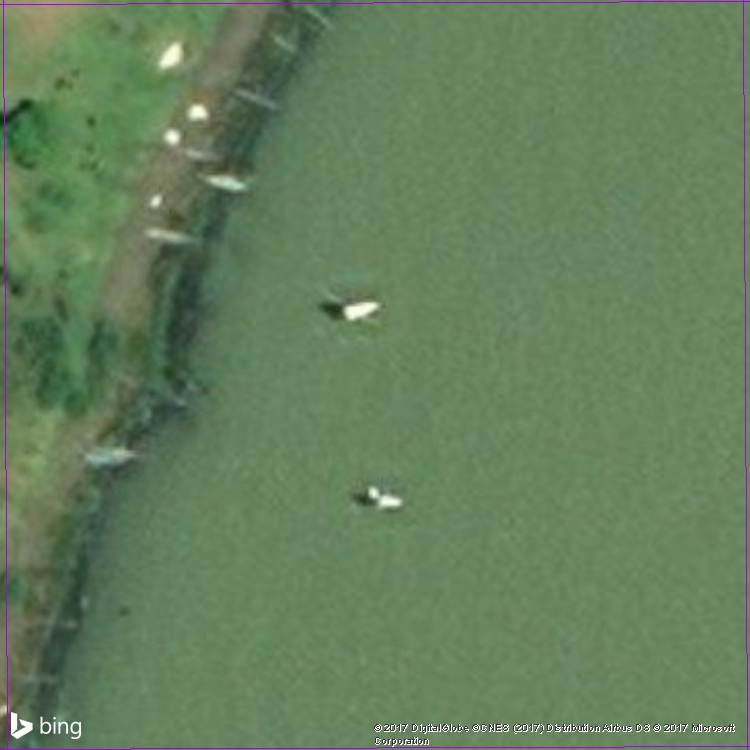boat: (132, 221, 219, 258), (317, 290, 392, 330), (72, 436, 143, 475), (347, 477, 416, 517), (186, 167, 261, 200), (226, 83, 291, 119), (168, 141, 236, 173)
